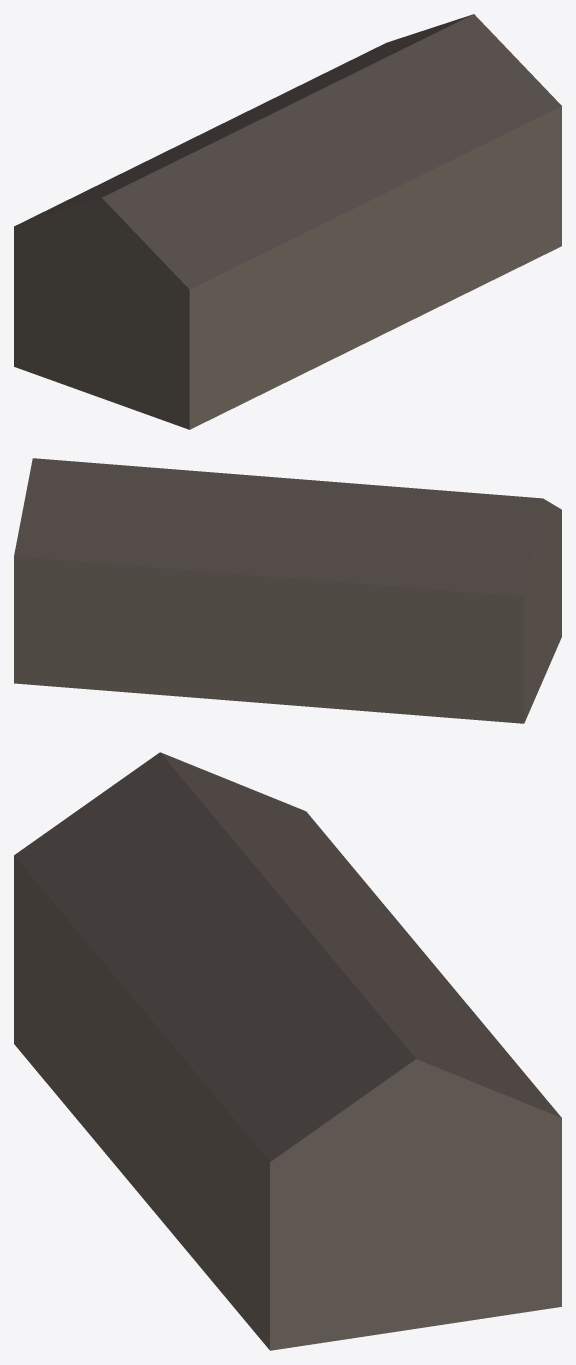
The picture shows the model from 3 angles, top to bottom: view 1: azimuth 30°, elevation 25°; view 2: azimuth 150°, elevation 25°; view 3: azimuth 270°, elevation 25°; orthographic projection. The views are drawn at different scales.
Parts seen in each view (by area): view 1: HP-w408450781; view 2: HP-w408450781; view 3: HP-w408450781.
Boxes of the visible parts, x1,y1,x2,y2 form: HP-w408450781: (14,14,561,429); HP-w408450781: (14,458,561,723); HP-w408450781: (14,752,561,1350).
Bounding box in the file's own units: 23.94 × 8.58 × 15.8.
